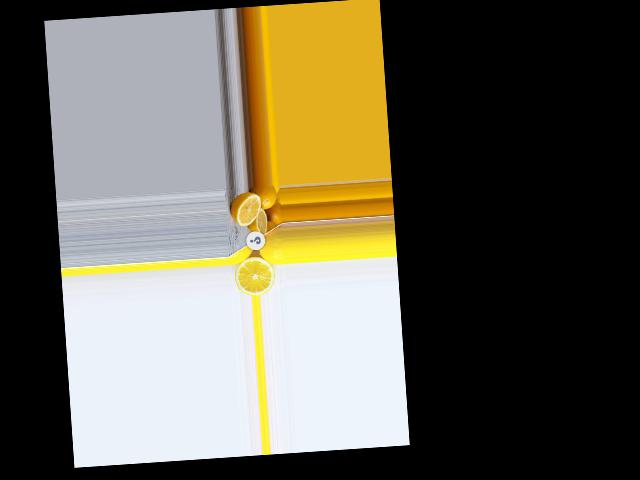lemon: (256, 226, 285, 267)
